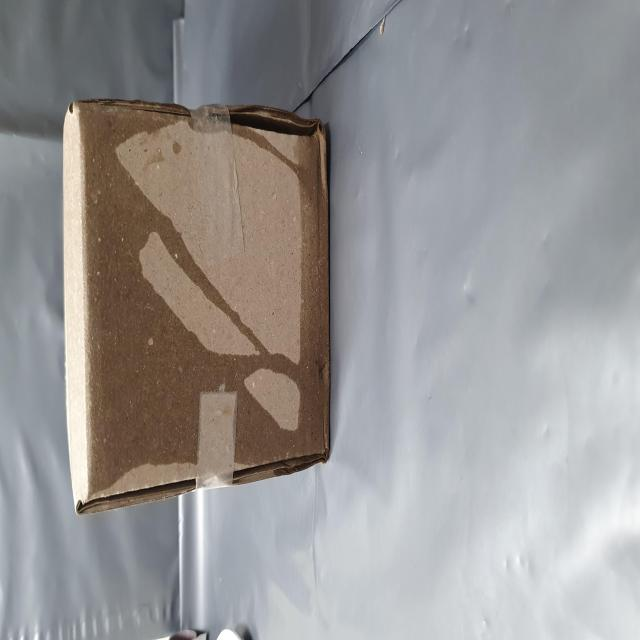wet: (70, 109, 304, 586)
